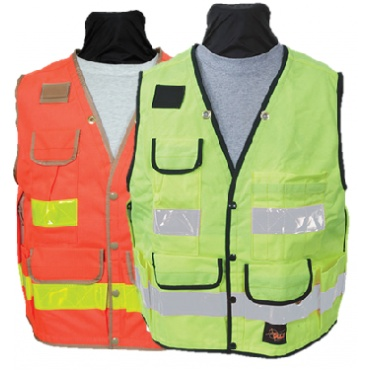safety vest: (138, 47, 347, 358), (11, 54, 161, 347)
